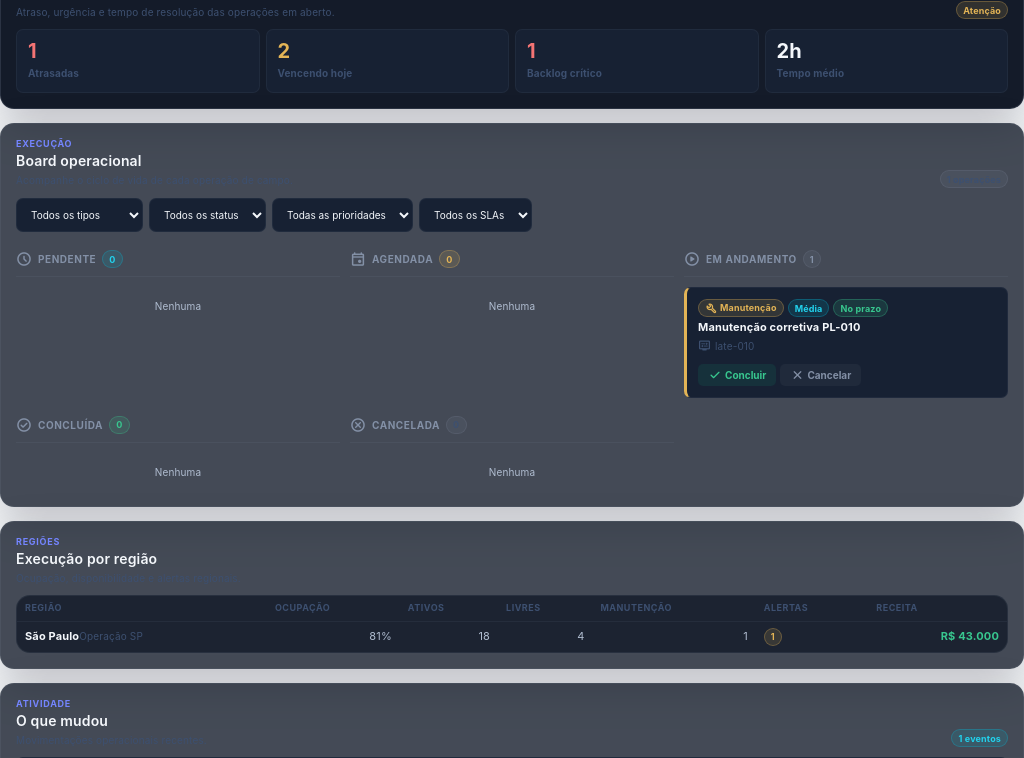
Test: OperationsPage smoke › Tratamento de erros amigáveis › exibe mensagem amigavel e destaca o relatório final quando conclusão de manutenção falha com OPERATION_FINAL_REPORT_REQUIRED
(page scrolled)
Click the button "Concluir". click: (737, 374)
box: [698,364,776,386]
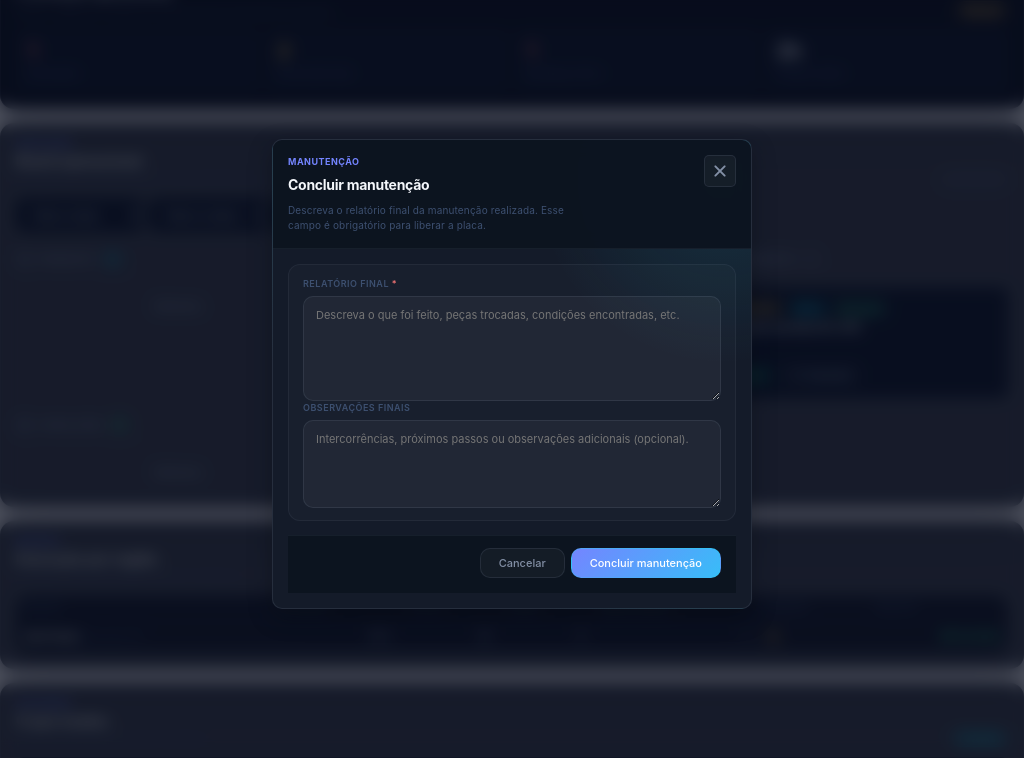
Replace the text in the text box labelled "Relatório final *" with "Relatório qualquer". click: (512, 348)
box: [303,296,721,401]
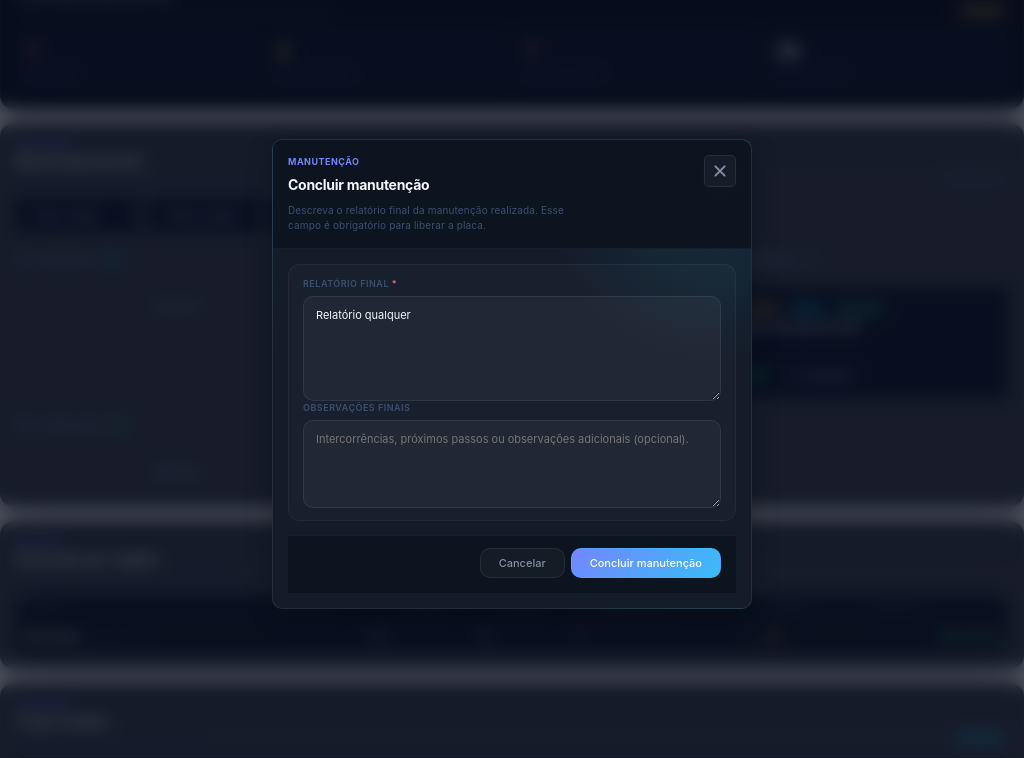
Click the button "Concluir manutenção". click: (646, 563)
box: [571,548,721,578]
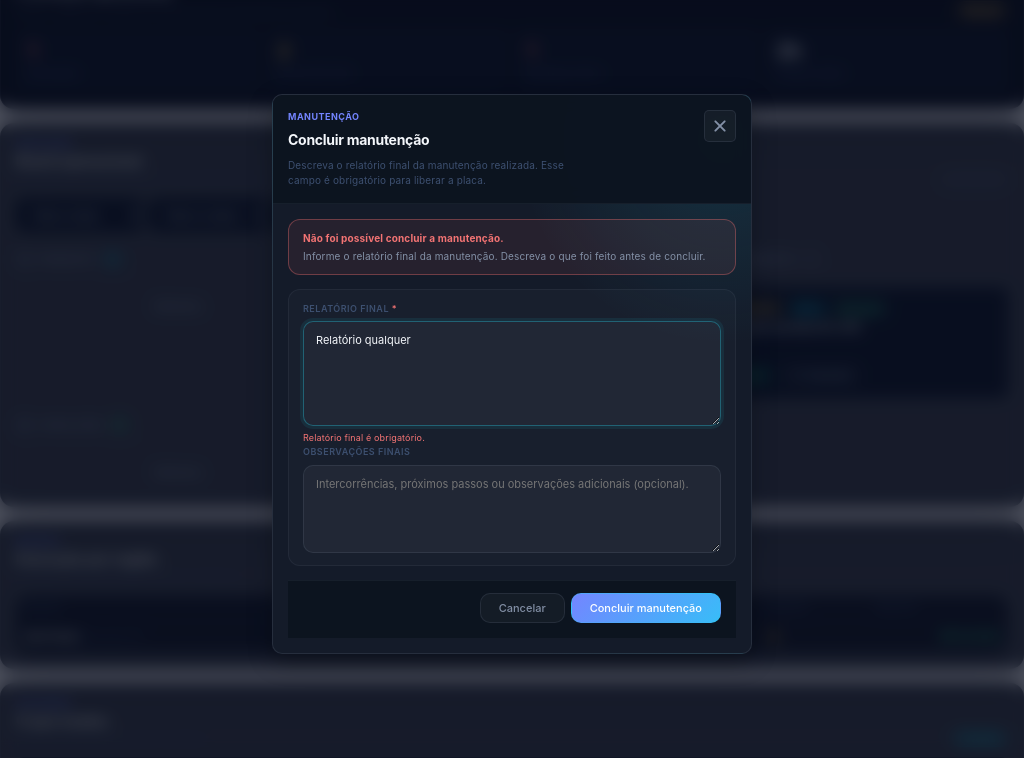
Now the message with test id "maintenance-completion-error-banner" is shown, box [288,219,736,275]
Now the text "Não foi possível concluir a manutenção." is shown, box [303,232,504,244]
Now the text "Informe o relatório final da manutenção" is shown, box [303,250,706,262]
